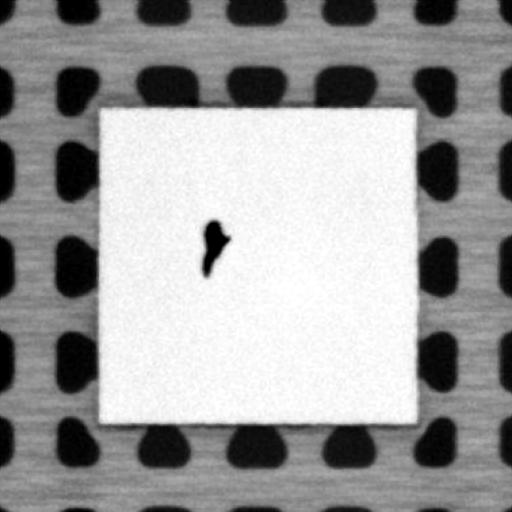DIE_INK: (198, 217, 230, 277)
